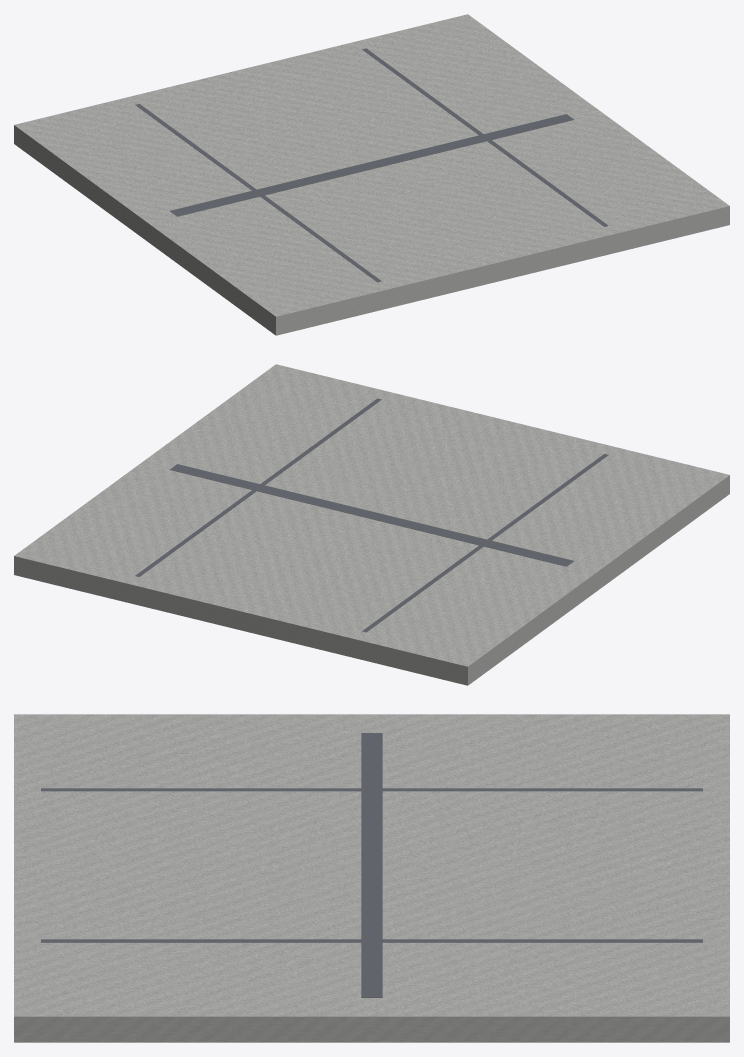
Rendered from fire-and-emergency-services-station-floor-slab-8b8a8cf7__29884.glb.
3 renders of one model, top to bottom at view 1: azimuth 30°, elevation 25°; view 2: azimuth 150°, elevation 25°; view 3: azimuth 270°, elevation 25°, orthographic. The views are drawn at different scales.
Parts seen in each view (by area): view 1: station-floor-slab; view 2: station-floor-slab; view 3: station-floor-slab.
Boxes of the visible parts, x1,y1,x2,y2 form: station-floor-slab: (14, 14, 729, 335); station-floor-slab: (14, 364, 729, 685); station-floor-slab: (14, 714, 729, 1042).
Bounding box in the file's own units: 4 × 0.1612 × 4.
Materials: 2 (1 with a texture image).
